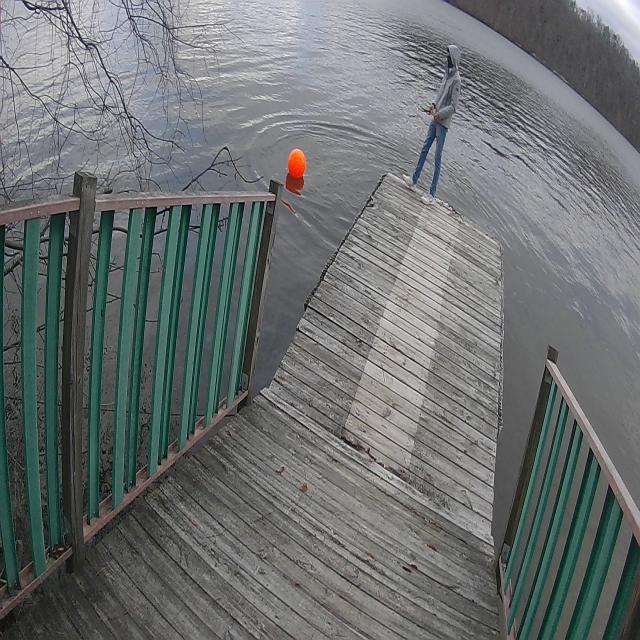Buoy: (287, 142, 307, 184)
